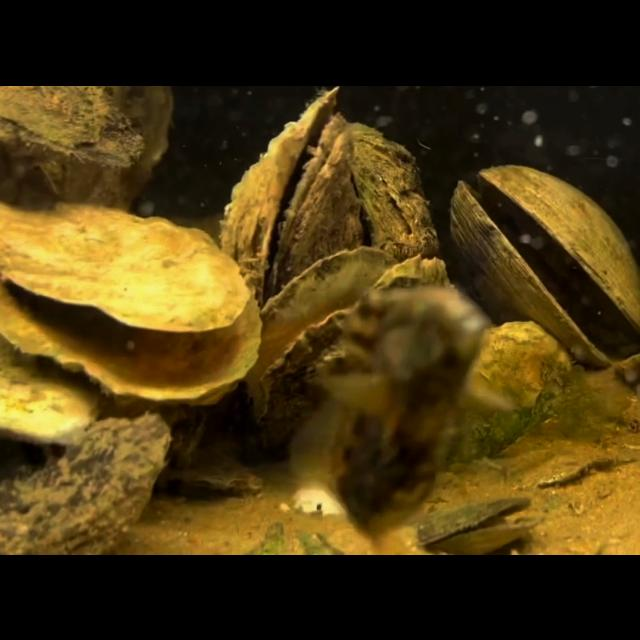Oyster-Closed: (0, 412, 172, 554), (418, 322, 576, 472), (346, 120, 440, 262), (0, 85, 148, 173), (0, 333, 104, 446)
Oyster-Open: (1, 202, 266, 406), (448, 163, 640, 371), (248, 247, 460, 426), (221, 85, 359, 295), (410, 494, 548, 554), (153, 437, 267, 498)
